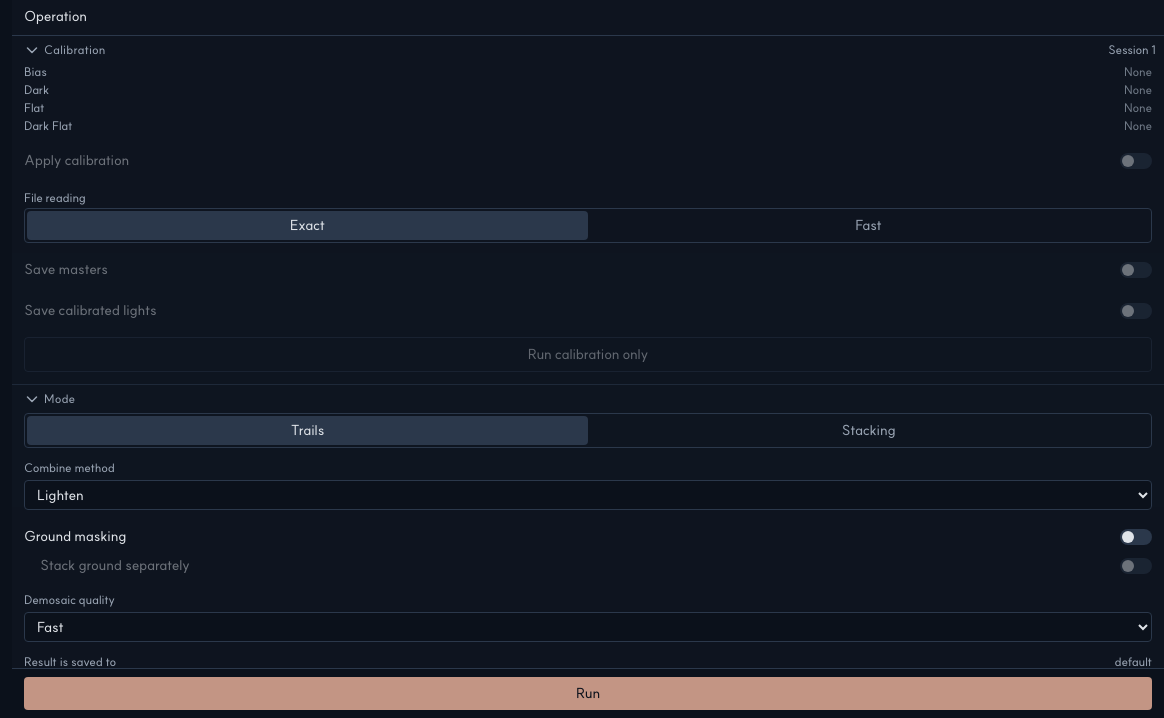
it: mode section › switches between Trails and Stacking options
Check: the text "Alignment model" is not shown
Click the radio button labelled "Stacking": (868, 430) [588,416,1149,445]
(page scrolled)
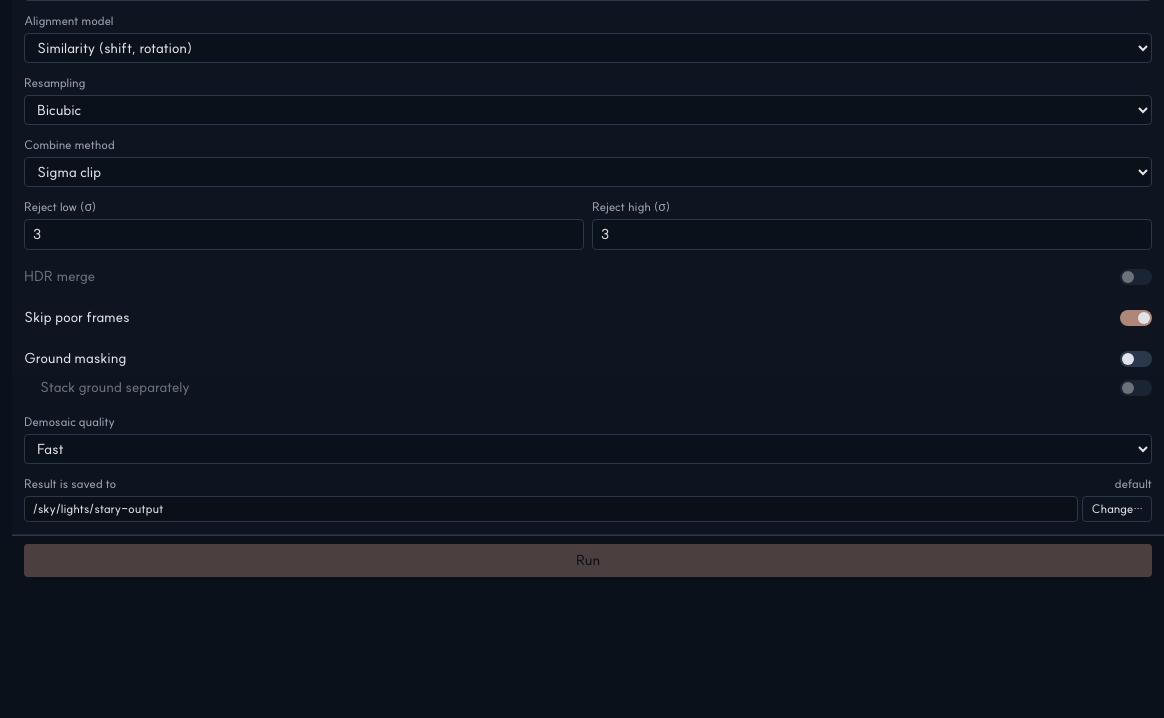
Check: the text "Ground masking" is shown, box [24,348,126,369]
Check: the text "Alignment model" is shown, box [24,13,113,28]
